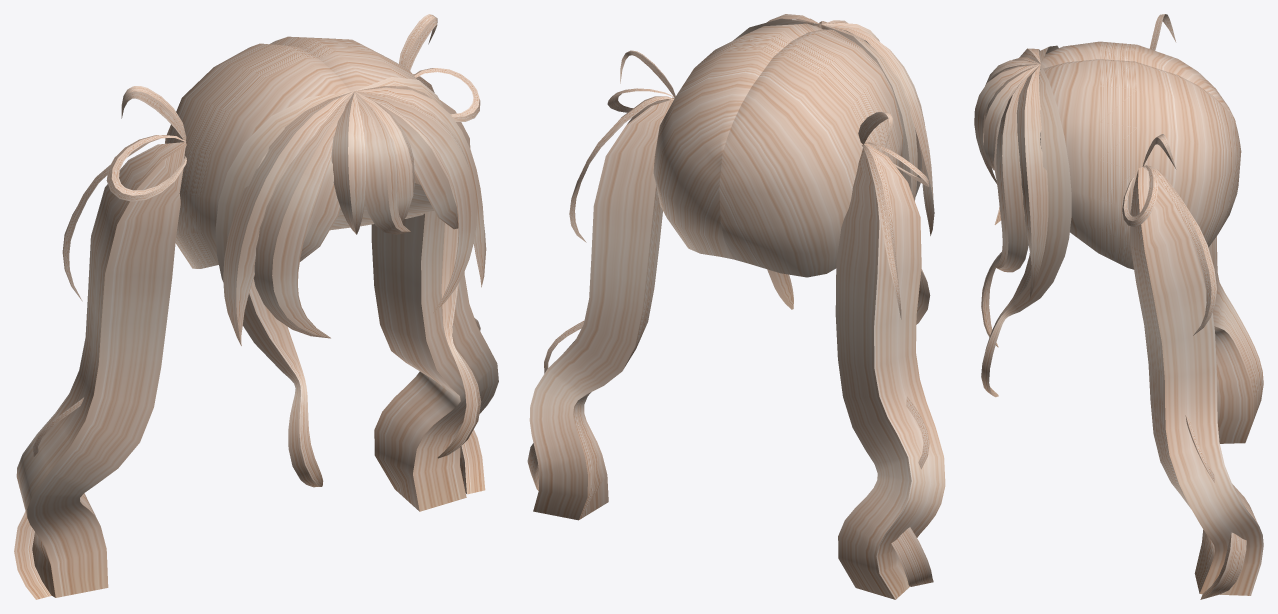
The picture shows the model from 3 angles, left to right: view 1: azimuth 30°, elevation 25°; view 2: azimuth 150°, elevation 25°; view 3: azimuth 270°, elevation 25°; orthographic projection. The views are drawn at different scales.
Visible parts, largest first — view 1: geometry_0; view 2: geometry_0; view 3: geometry_0.
Part boxes in pixels (box(x1,y1,x2,y2)): geometry_0: box(14, 14, 498, 599); geometry_0: box(527, 14, 945, 599); geometry_0: box(974, 14, 1263, 599).
Bounding box in the file's own units: 2.7 × 2.97 × 1.71.
Materials: 1 (1 with a texture image).
